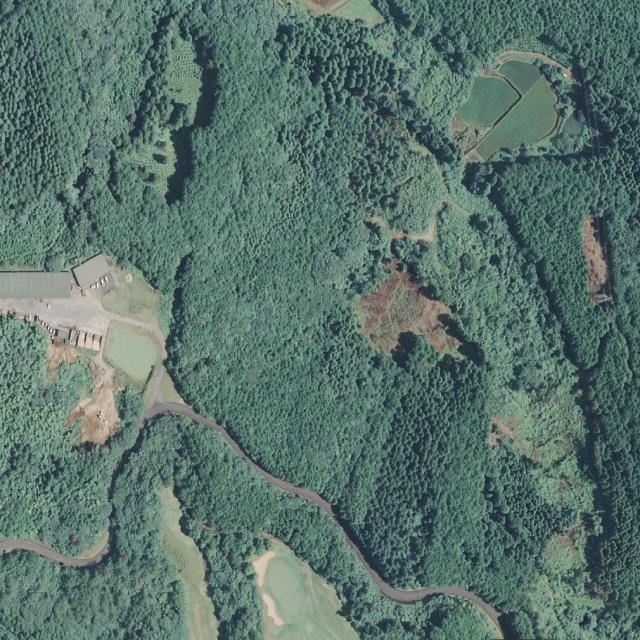landslide: (355, 272, 461, 357)
